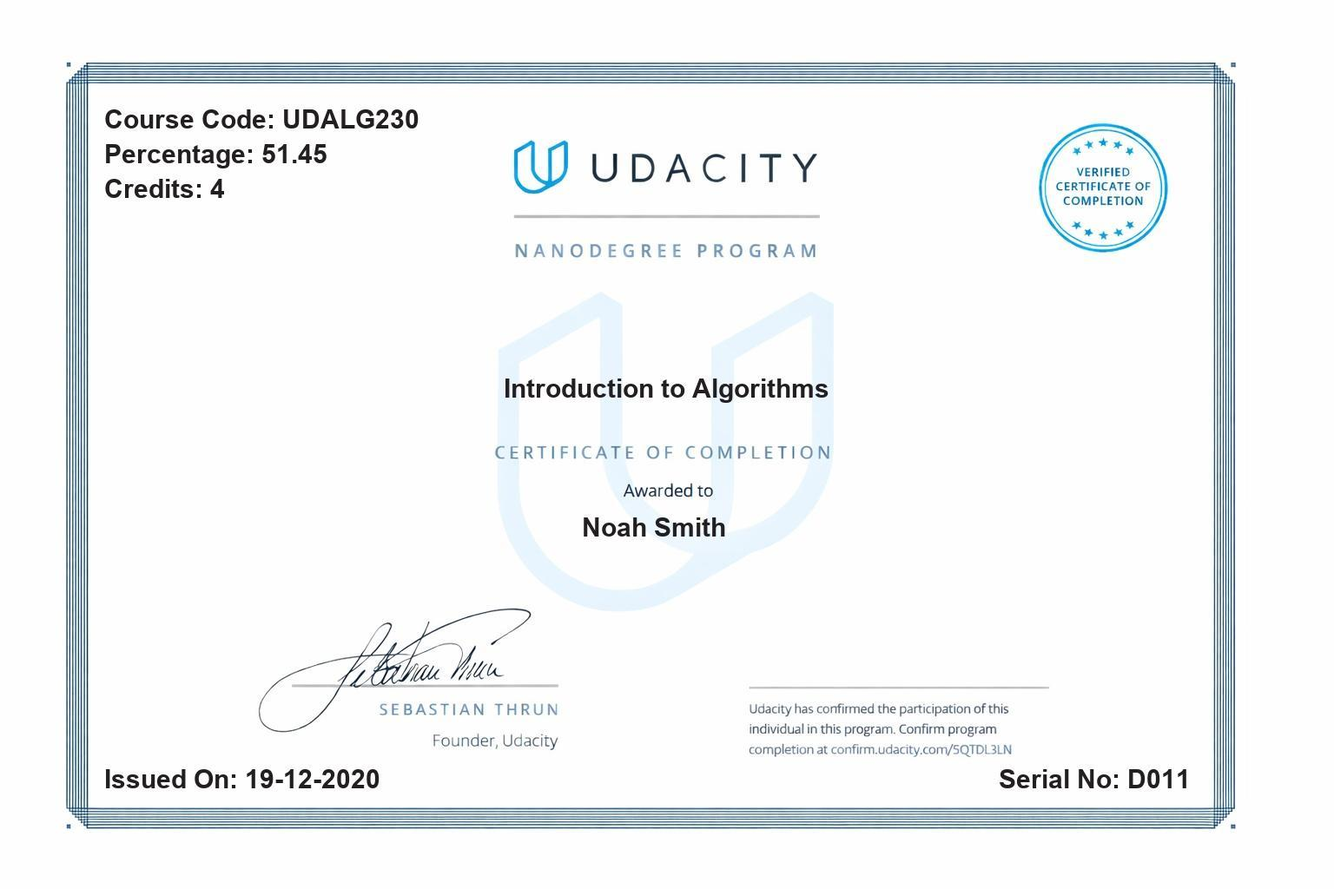Course Code: (275, 95, 434, 136)
Course Name: (494, 367, 834, 413)
Credits: (204, 170, 248, 206)
Issued On: (239, 763, 397, 800)
Percentage: (255, 135, 336, 175)
Serial No: (1122, 760, 1195, 804)
Student Name: (575, 508, 733, 553)
